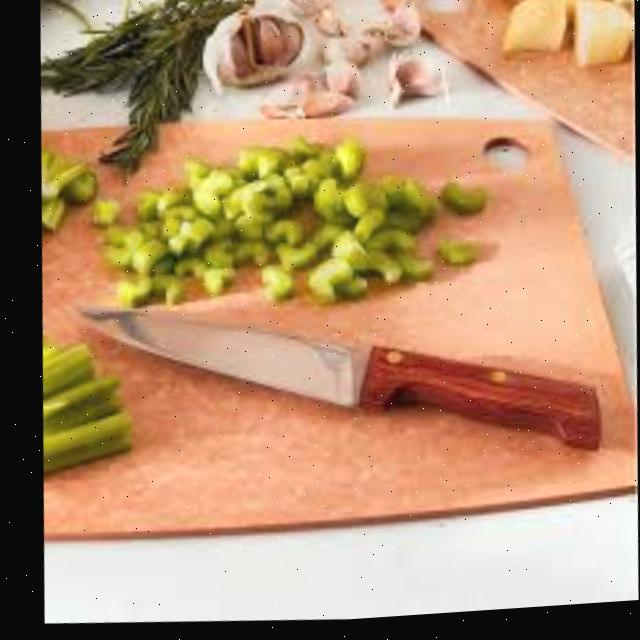knife: (66, 275, 603, 486)
